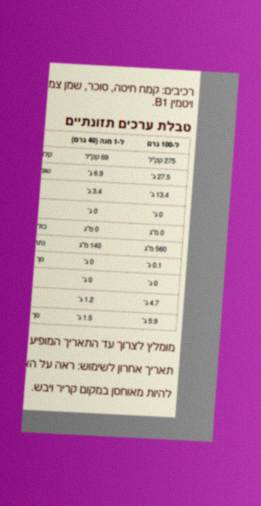carbs: (145, 261, 163, 270)
energy: (147, 156, 177, 166)
fat: (150, 172, 171, 182)
protein: (141, 317, 159, 326)
